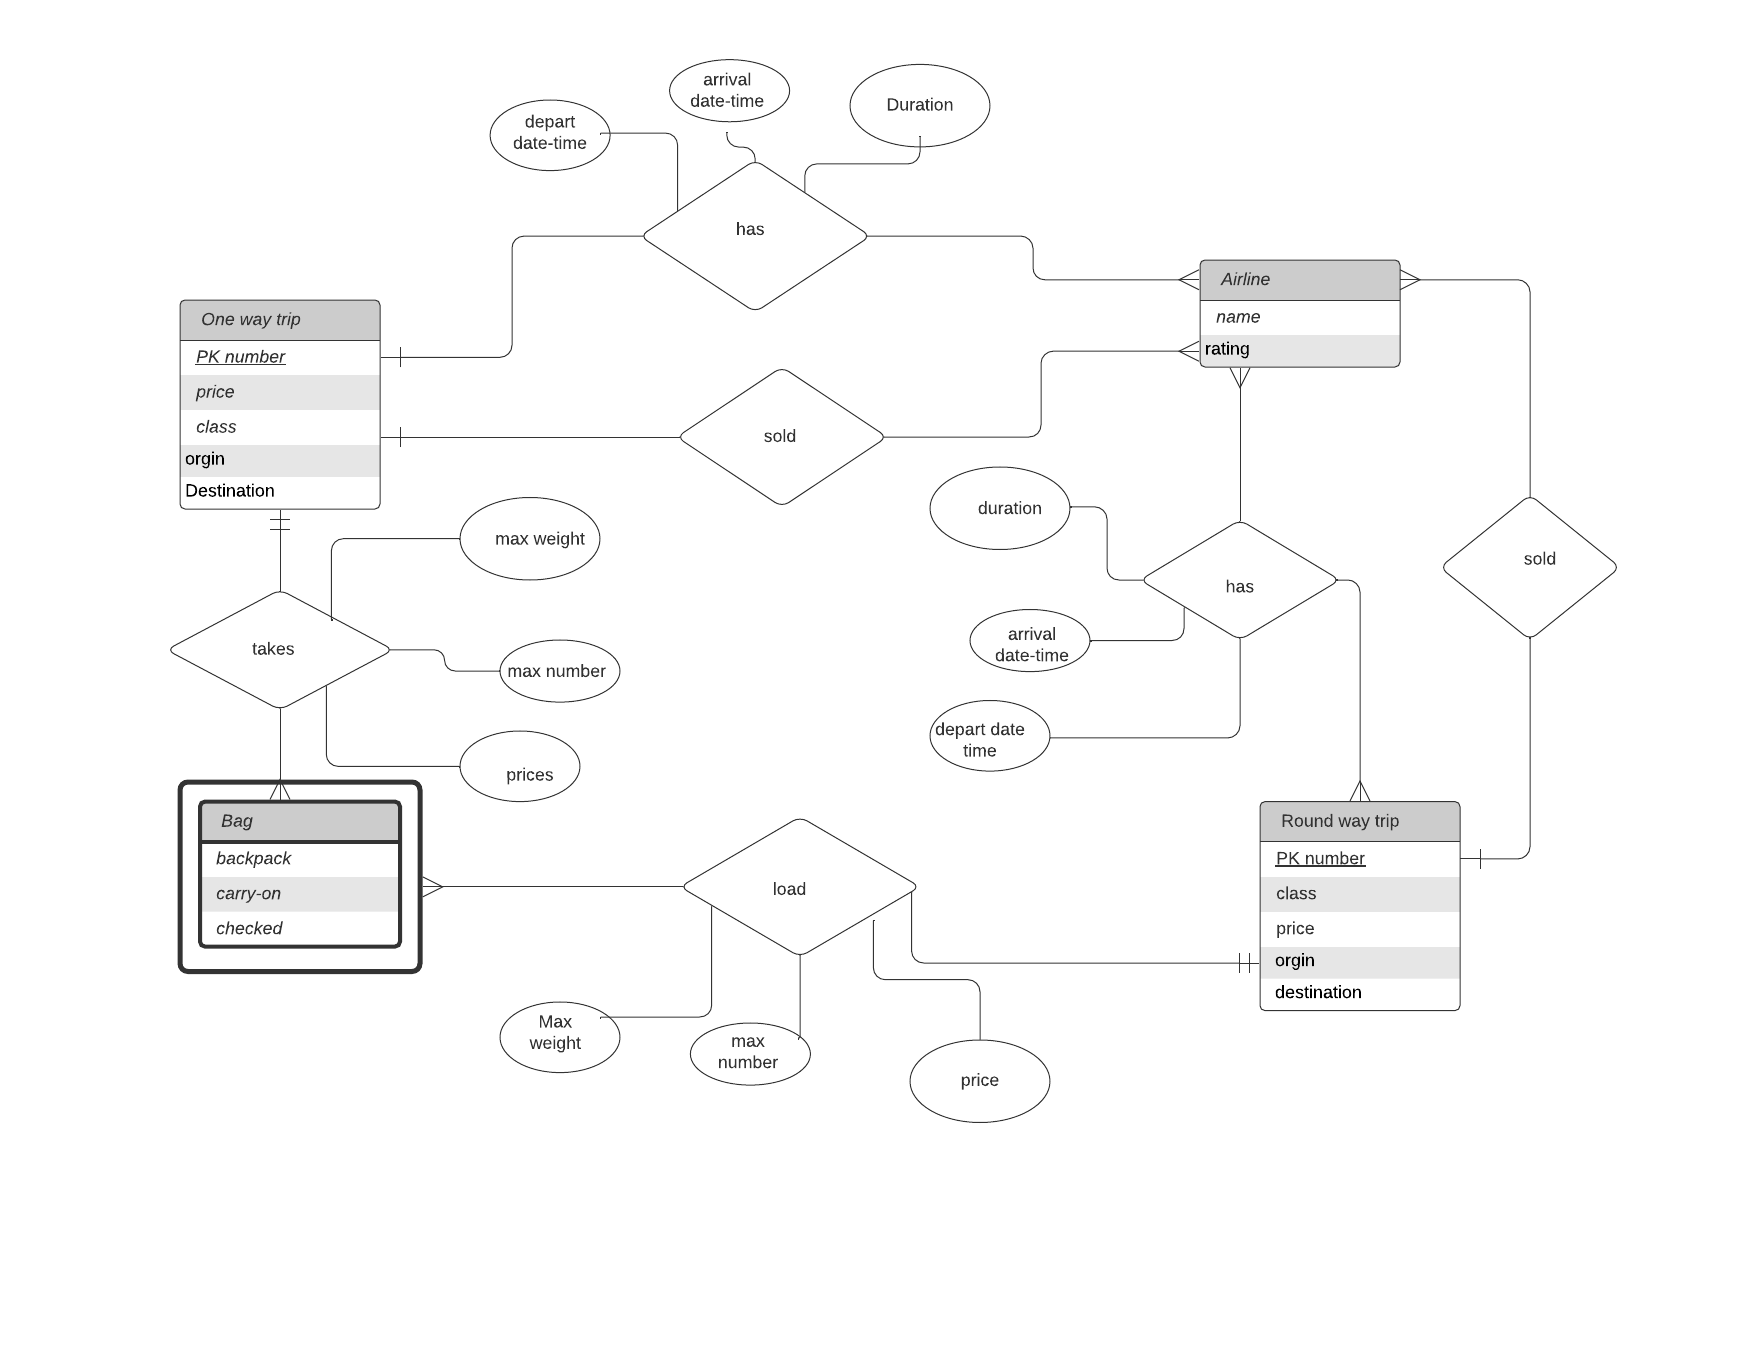entity: (1259, 799, 1463, 1016), (177, 300, 381, 514), (1200, 259, 1401, 369)
many: (1343, 714, 1379, 801), (419, 869, 503, 896), (269, 709, 293, 800), (1137, 266, 1203, 296), (1400, 267, 1464, 294), (1129, 341, 1200, 364), (1229, 364, 1251, 436)
one: (271, 510, 294, 591), (1189, 950, 1259, 974), (381, 343, 439, 369), (1459, 849, 1529, 869), (381, 429, 446, 449)
rel: (643, 161, 866, 309), (683, 819, 916, 954), (681, 369, 883, 506), (171, 591, 391, 707), (1444, 499, 1617, 637), (1141, 523, 1339, 640)
rel_attr: (847, 63, 991, 150), (459, 496, 601, 581), (929, 466, 1071, 550), (909, 1040, 1051, 1121), (457, 727, 581, 801), (489, 99, 611, 171), (929, 700, 1050, 771), (501, 1001, 619, 1074), (499, 634, 624, 701), (690, 1021, 810, 1089), (669, 57, 790, 123), (971, 609, 1091, 671)
weak_entity: (179, 780, 423, 980)
